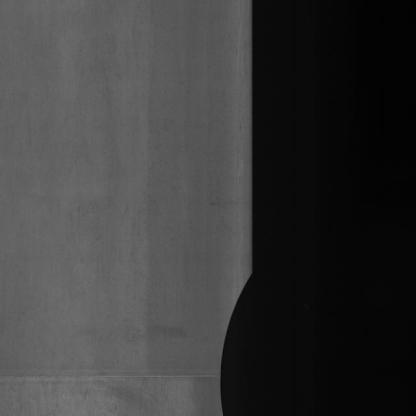crescent_gap: (200, 240, 254, 416)
welding_line: (2, 364, 230, 396)
